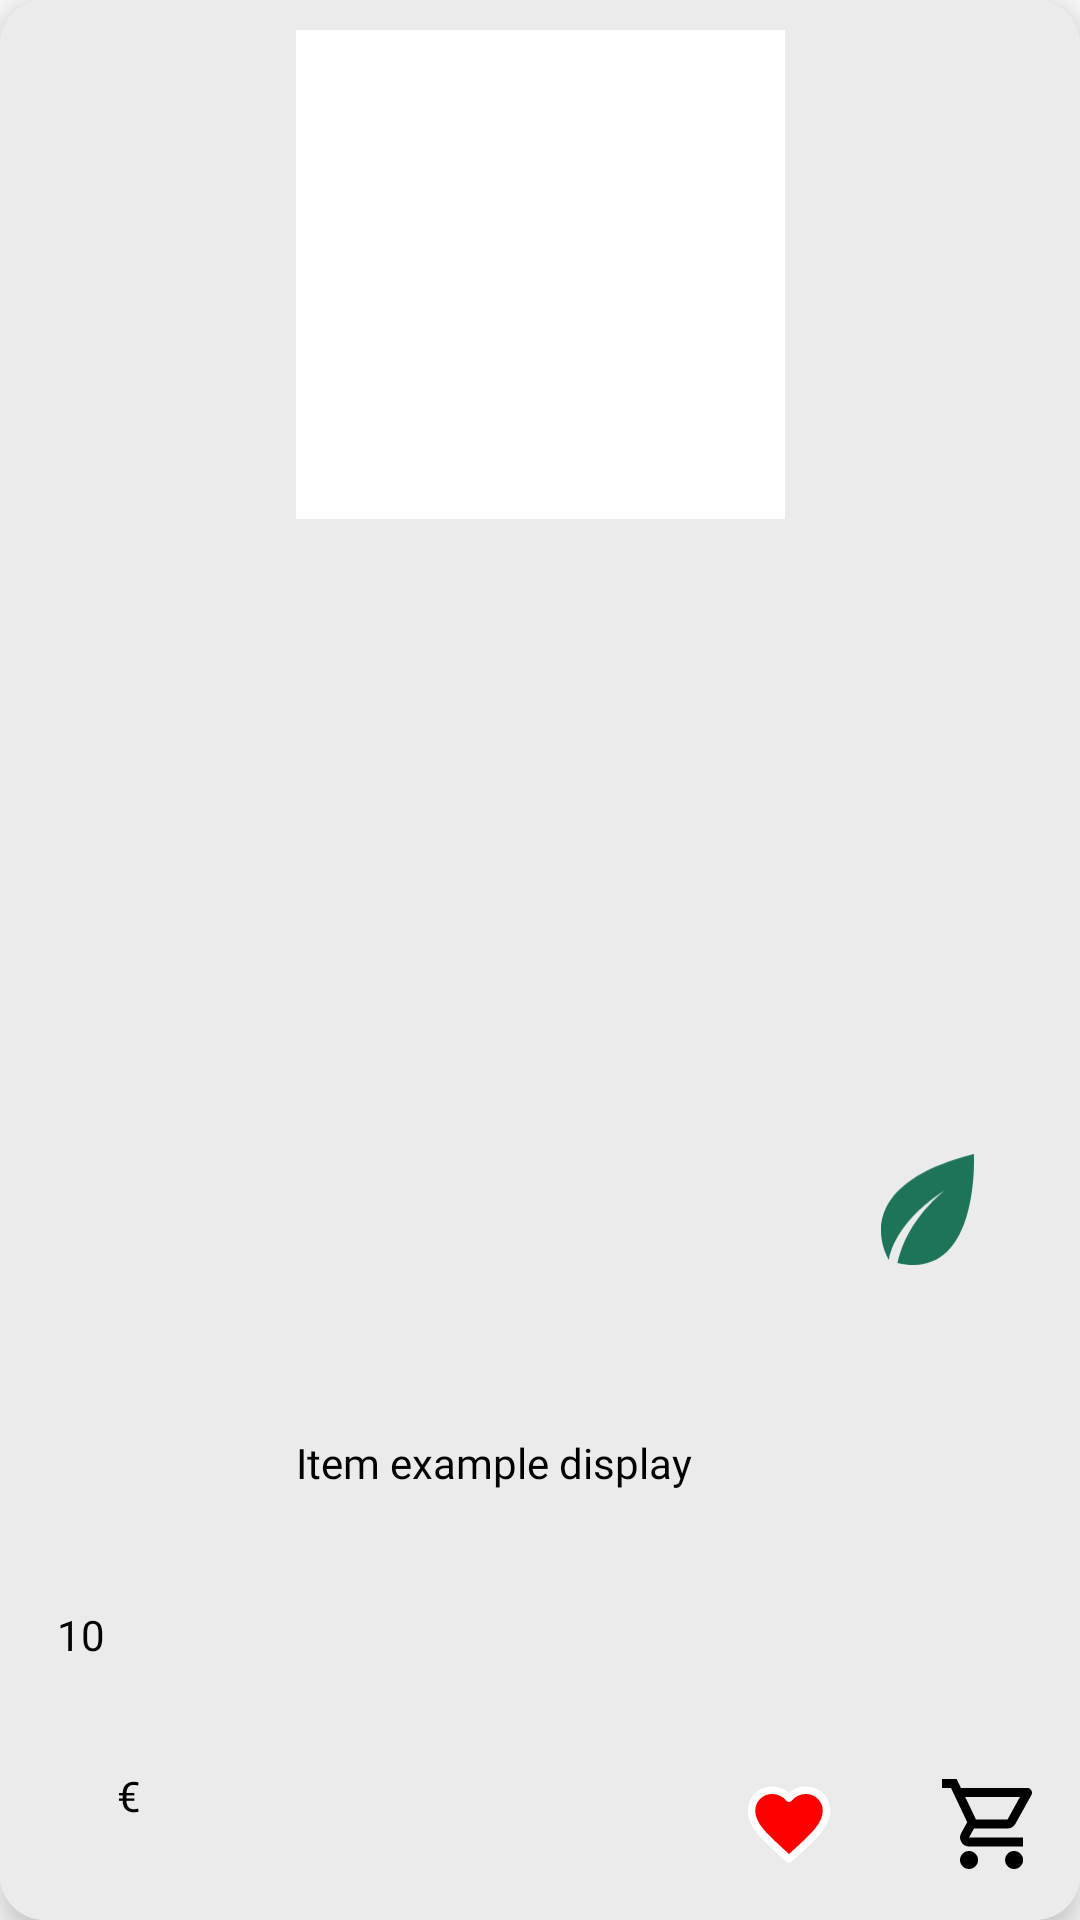

Named icons in this screenshot (1080px×1920px) and their centers, (x=x, y=y):
heart: (x=789, y=1824)
hoja verde: (x=927, y=1209)
shopping cart: (x=987, y=1824)
